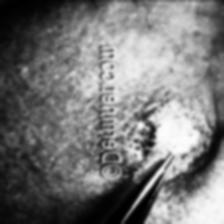Unclassified: (124, 88, 208, 188)
